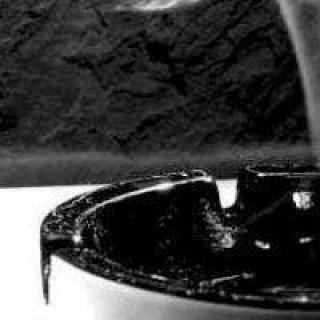smoke: (283, 0, 320, 261), (0, 0, 248, 18)
